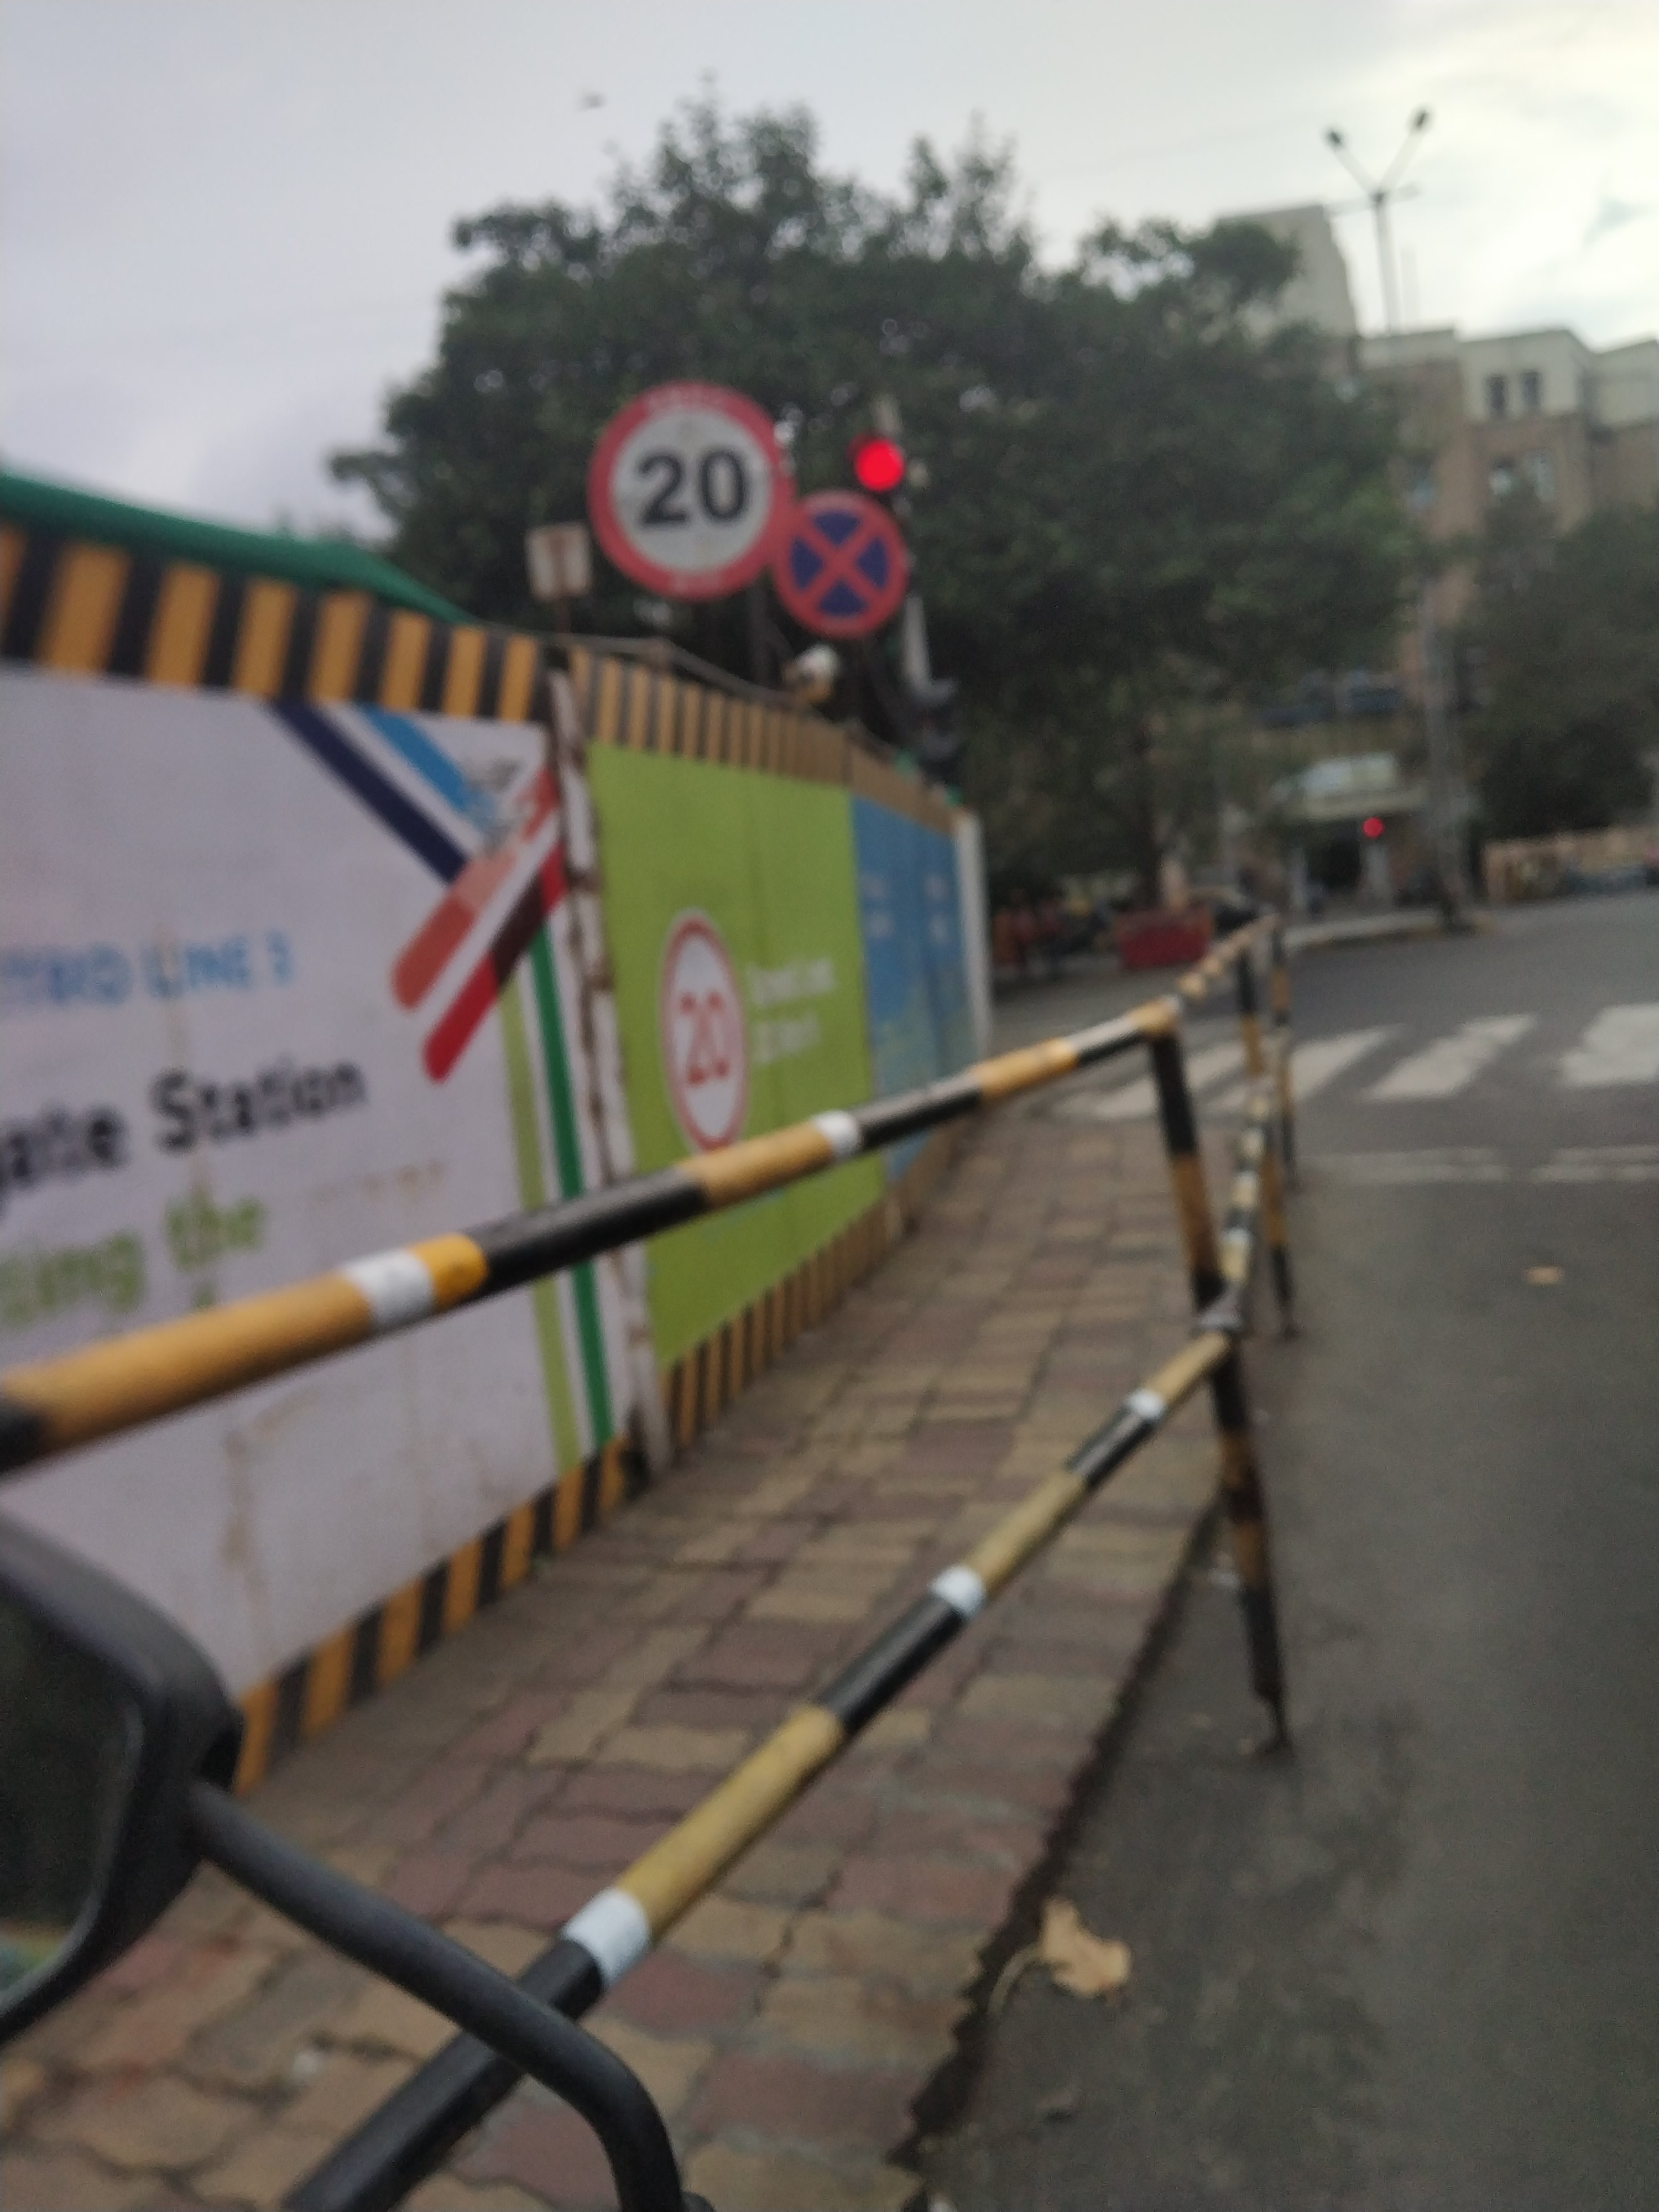traffic_sign: (584, 383, 786, 599), (777, 491, 908, 637), (850, 430, 903, 498)
